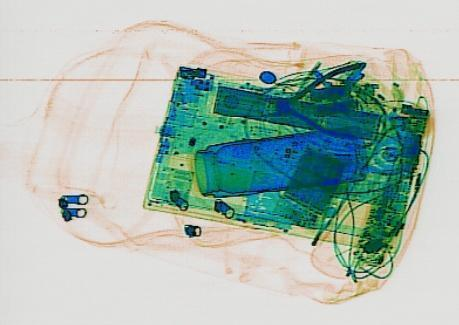Pliers: (254, 60, 379, 145)
